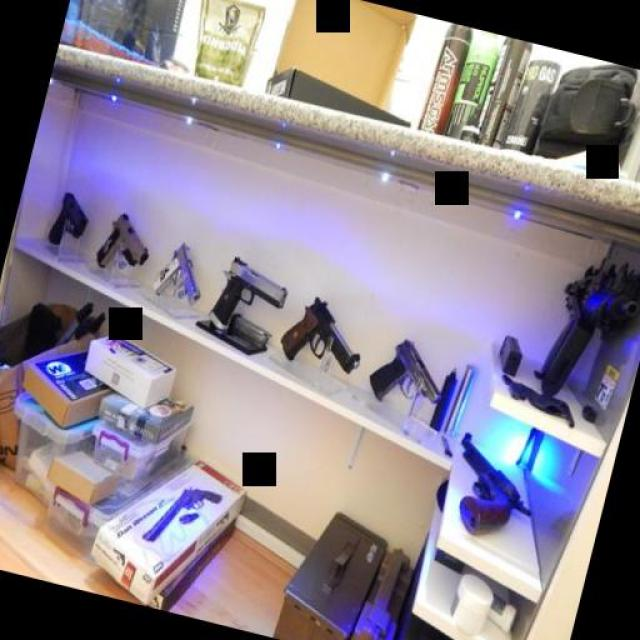gun: (430, 429, 542, 570), (196, 246, 294, 372), (361, 322, 450, 433), (278, 288, 368, 380), (138, 239, 212, 315), (94, 204, 154, 288), (36, 174, 95, 258)
